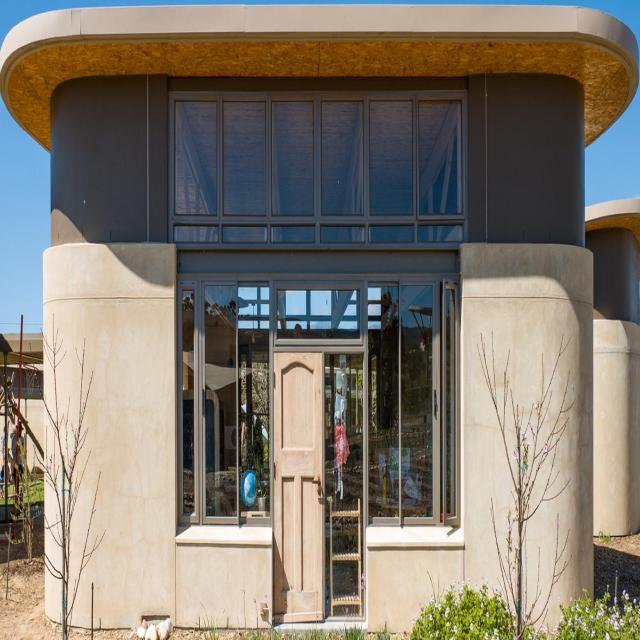door: (271, 349, 323, 626)
window: (170, 87, 468, 623)
